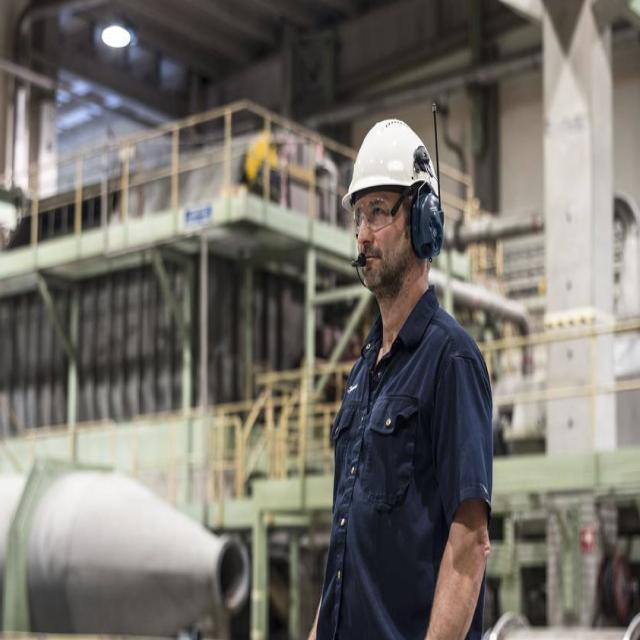face_nomask: (348, 192, 429, 294)
glasses: (352, 196, 393, 232)
head_helmet: (342, 115, 440, 215)
person: (312, 125, 492, 639)
